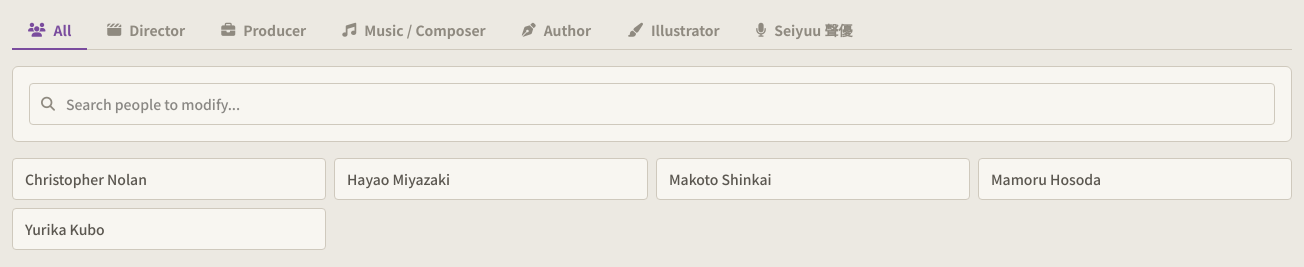
Scenario: offers no scope filter for a role with a single legal scope
The width and height of the screenshot is (1304, 267).
Click the button "Director" at (146, 31), box [91, 12, 201, 50]
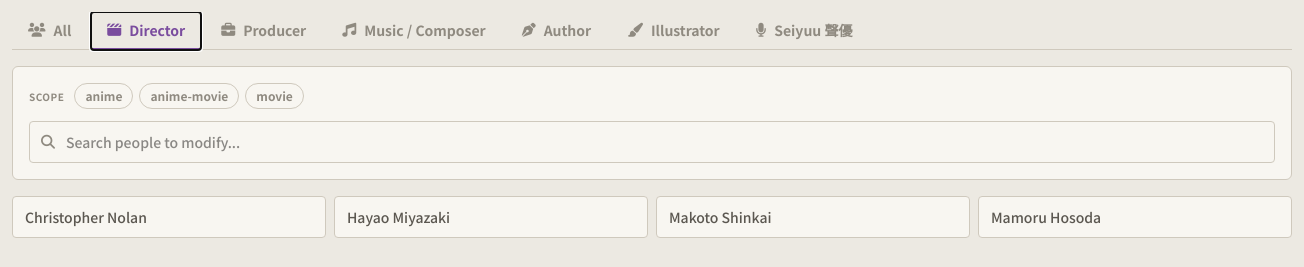
Now the button "anime-movie" is shown, box [139, 83, 239, 109]
Click the button "Producer" at (264, 31), box [205, 12, 322, 50]
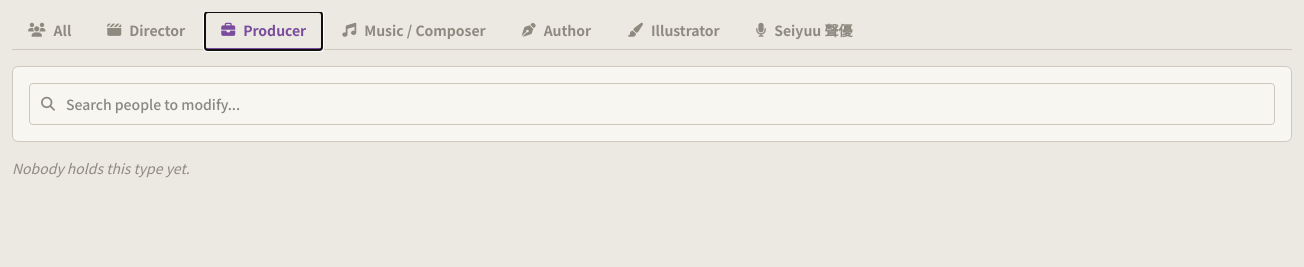
Now the button "anime-movie" is gone
Now the button "anime" is gone
